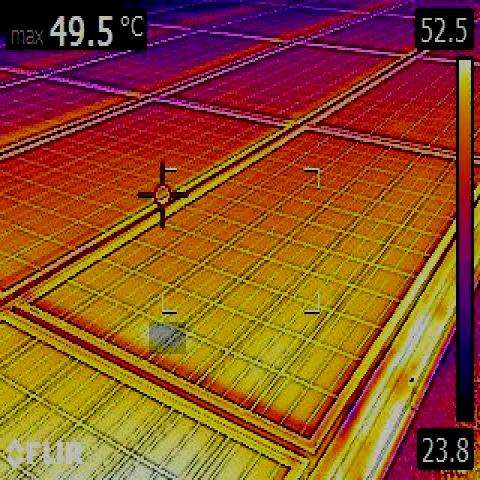fault: (149, 322, 186, 354)
